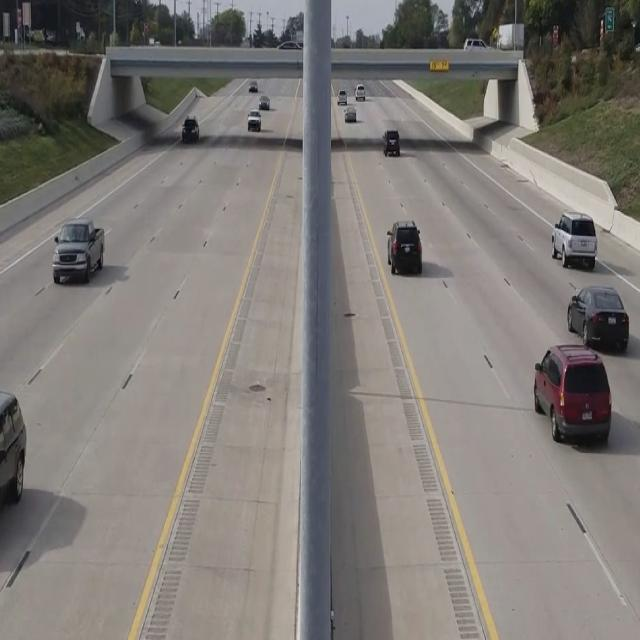car: (533, 343, 611, 443), (567, 285, 629, 354), (0, 388, 26, 551), (52, 218, 104, 284), (550, 212, 597, 270), (386, 220, 422, 274), (181, 116, 198, 144), (384, 129, 399, 156), (247, 110, 261, 131)
